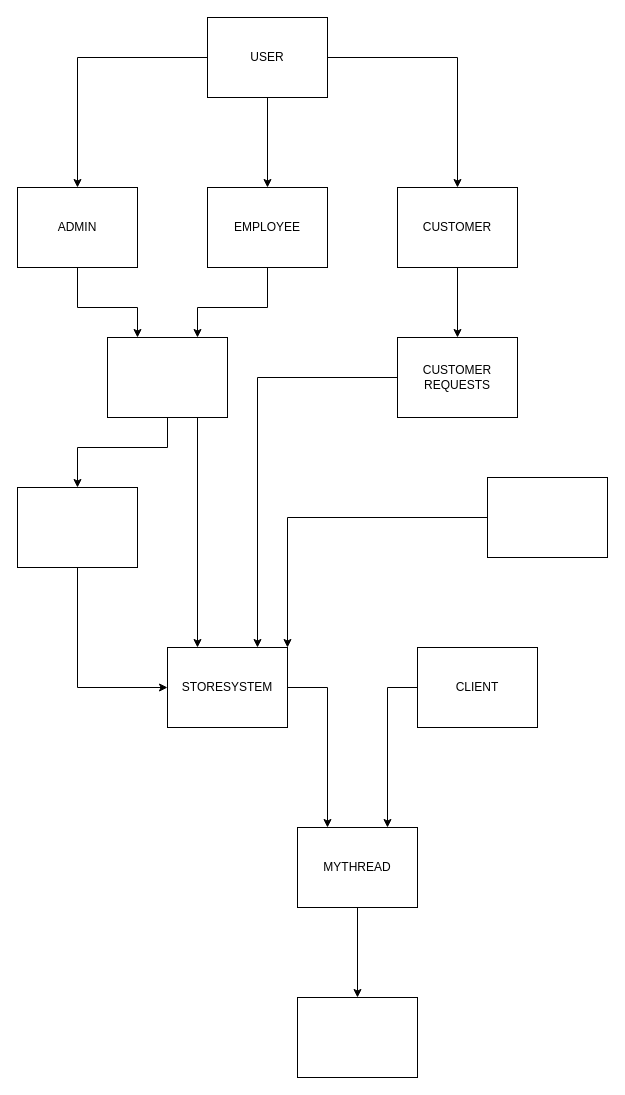
Image size: 625x1095. Some labels were removed from this diagram. The shapes that lost their labels are listed below. From the top down, each one's box as (x1, y1, x2, y2) in pixels, then its label:
(106, 336, 228, 418): EMPLOYEEADMIN REQUESTS
(16, 486, 138, 568): ADMINREQUESTS
(486, 476, 608, 558): MYSQL CONNECTION
(296, 996, 418, 1078): SERVER
